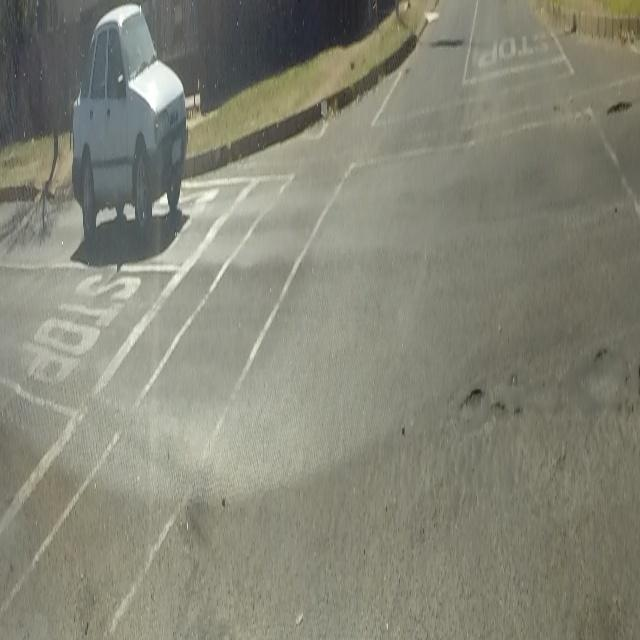pothole: (461, 375, 484, 411)
